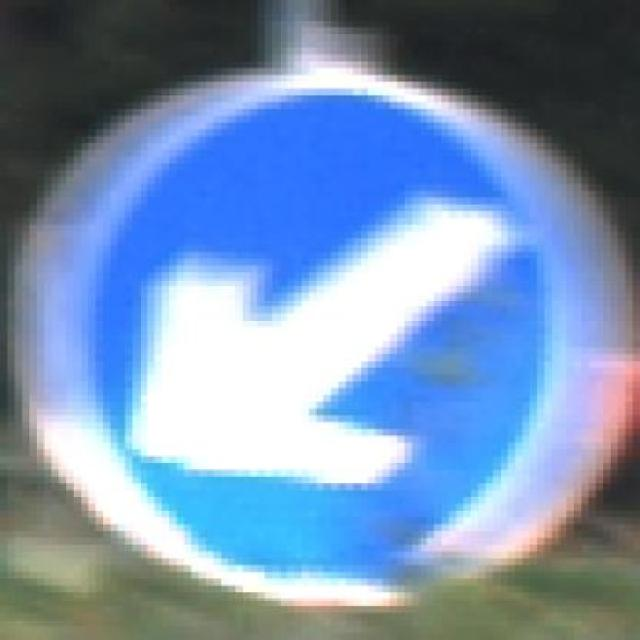Keep-Left: (29, 41, 603, 593)
